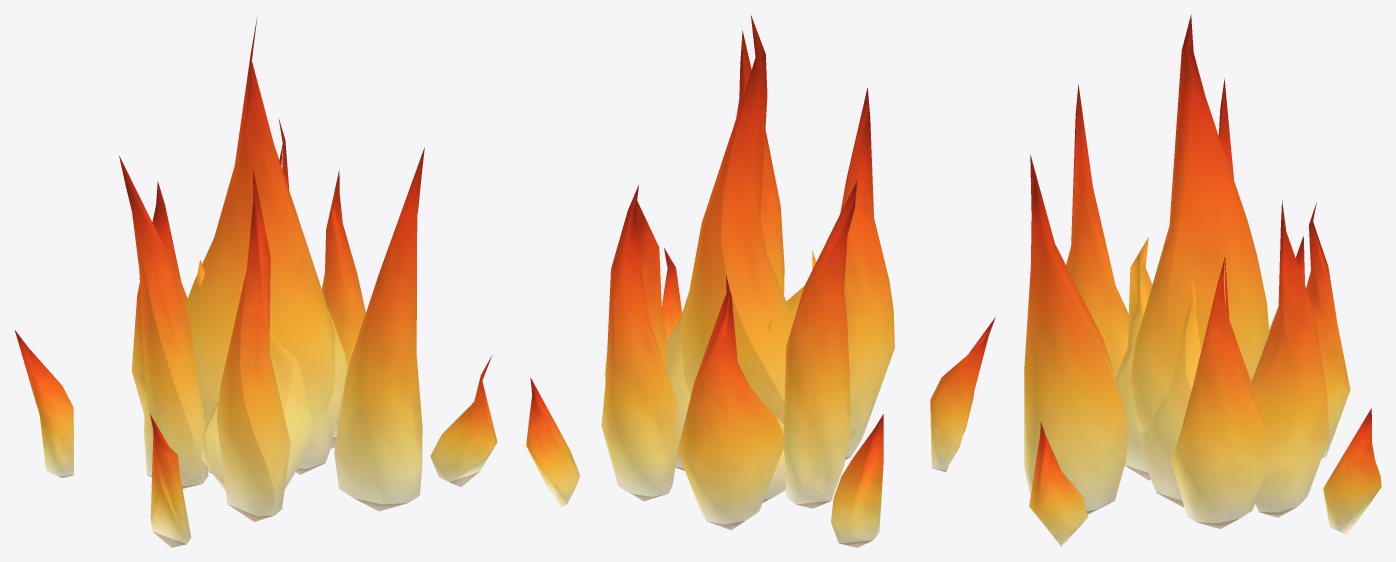
File: tb_flame.glb
3 renders of one model, left to right at view 1: azimuth 30°, elevation 25°; view 2: azimuth 150°, elevation 25°; view 3: azimuth 270°, elevation 25°, orthographic.
Size of the model in its own units: 0.8218 by 1.07 by 0.7139.
1 material, 1 textured.
